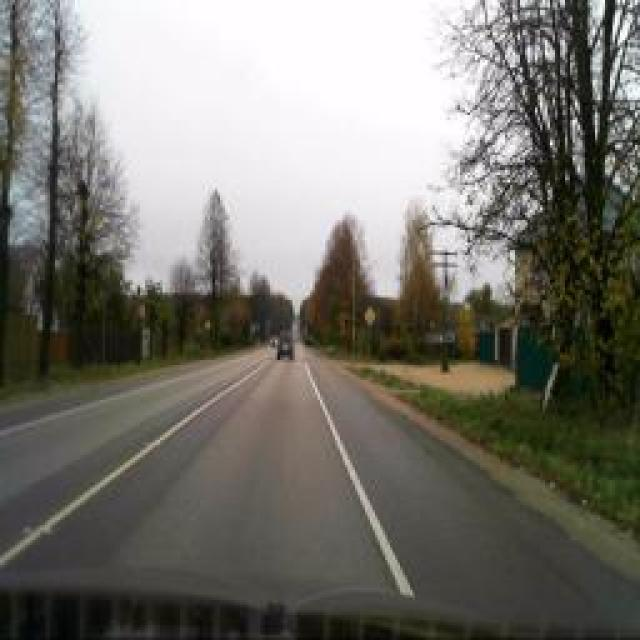sign: (364, 306, 374, 326)
